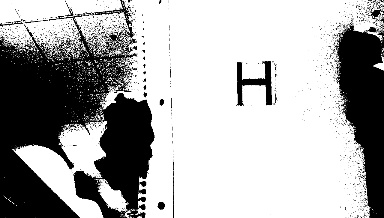H: (231, 60, 277, 103)
